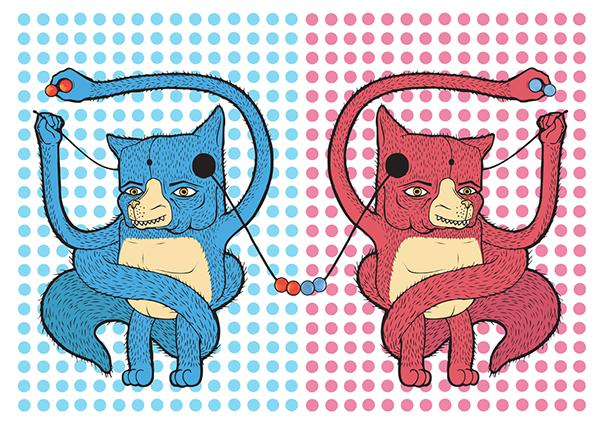cat: (338, 50, 600, 380), (48, 56, 260, 368)
